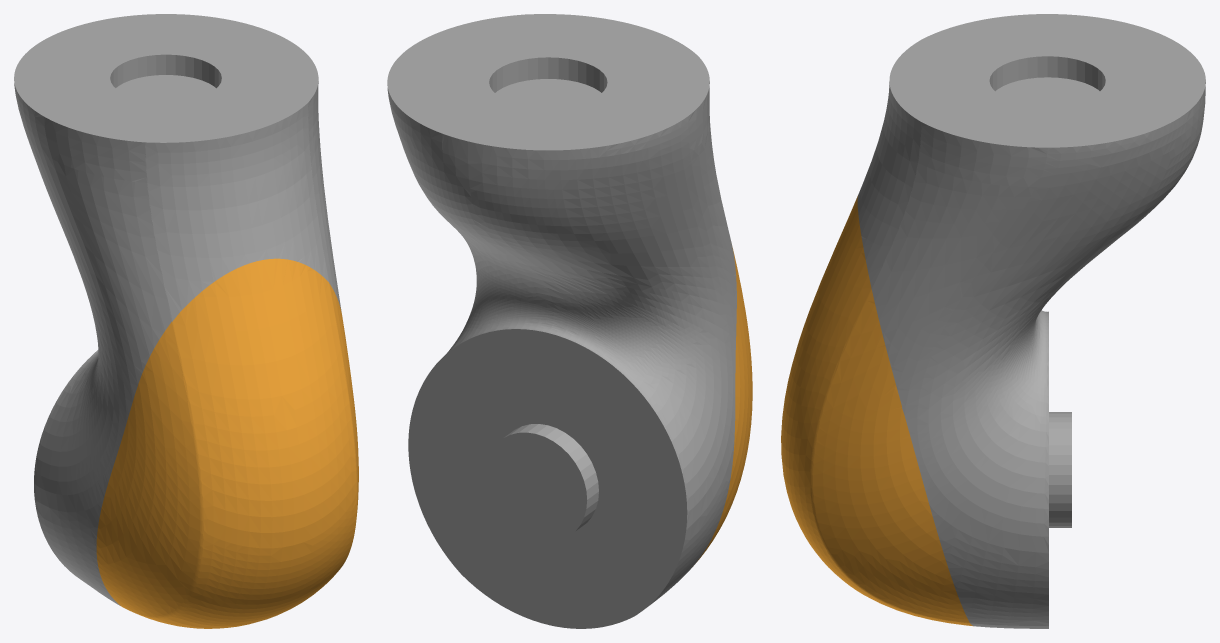
The picture shows the model from 3 angles, left to right: view 1: azimuth 30°, elevation 25°; view 2: azimuth 150°, elevation 25°; view 3: azimuth 270°, elevation 25°; orthographic projection. The views are drawn at different scales.
Parts seen in each view (by area): view 1: link4_1, link4_0; view 2: link4_1, link4_0; view 3: link4_1, link4_0.
Boxes of the visible parts, bbox=[...] form: link4_1: bbox=[14, 14, 341, 605]; link4_0: bbox=[96, 258, 358, 628]; link4_1: bbox=[387, 14, 736, 628]; link4_0: bbox=[693, 248, 752, 566]; link4_1: bbox=[857, 14, 1205, 628]; link4_0: bbox=[781, 196, 973, 626].
Size of the model in its own units: 0.136 by 0.2525 by 0.1826.
